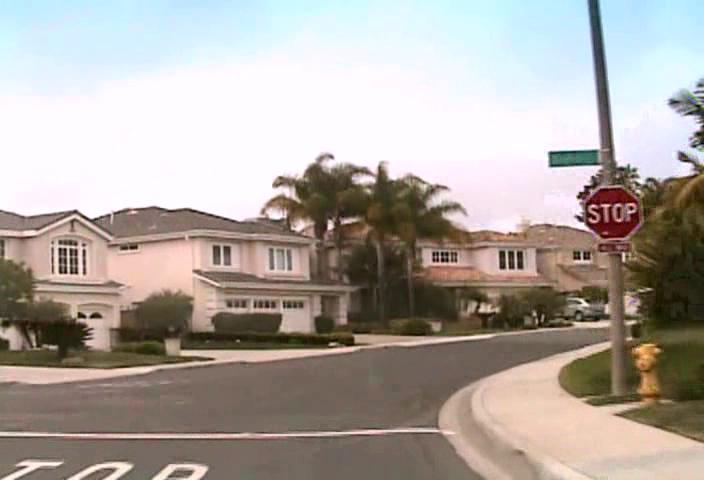stop: (583, 185, 643, 241)
